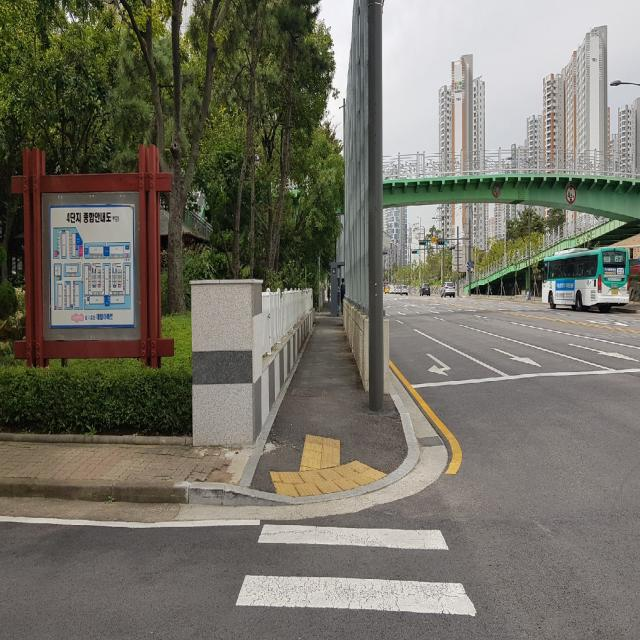횡단보도: (234, 522, 478, 619)
